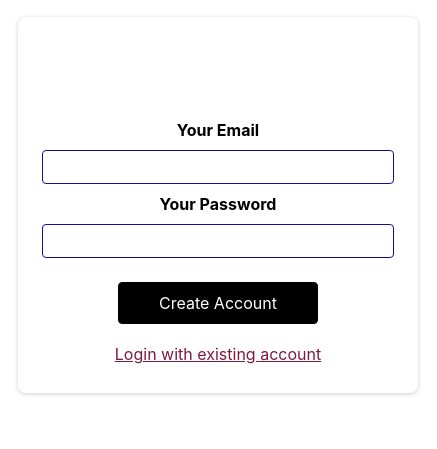
Test: AuthForm › handles successful signup
Type "test@example.com" into the field labelled "Your Email" at (218, 167), box 42,150 -> 394,184
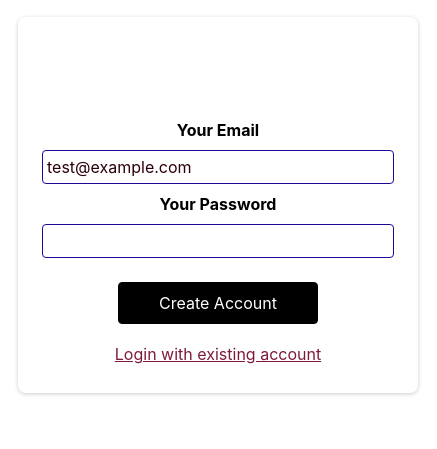
Type "password123" into the password field labelled "Your Password" at (218, 241), box 42,224 -> 394,258
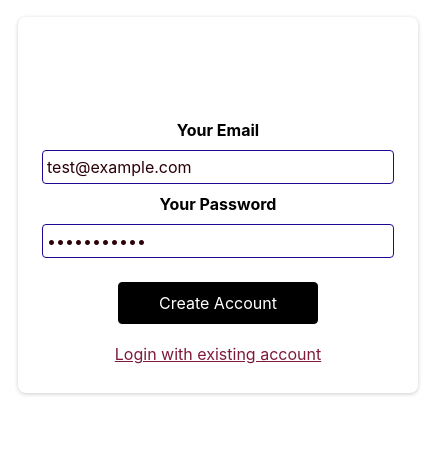
Click the button "Create Account" at (218, 303), box 118,282 -> 318,324
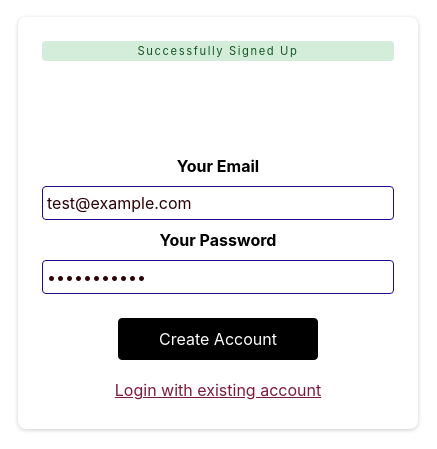
Expected: the text "Successfully Signed Up" is shown, 42,41 -> 394,61
